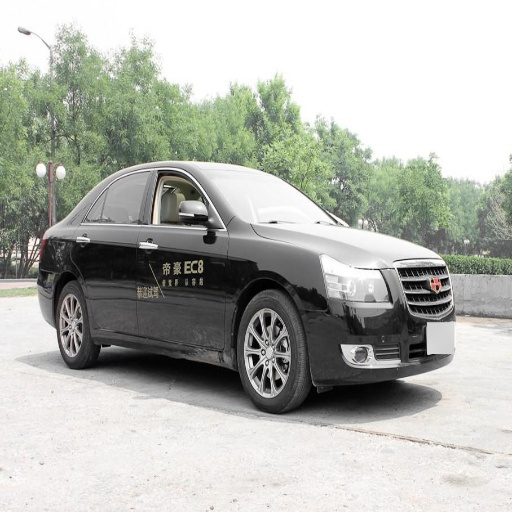front_bumper: (299, 260, 455, 381)
front_right_door: (139, 169, 226, 349)
front_right_light: (322, 255, 385, 301)
